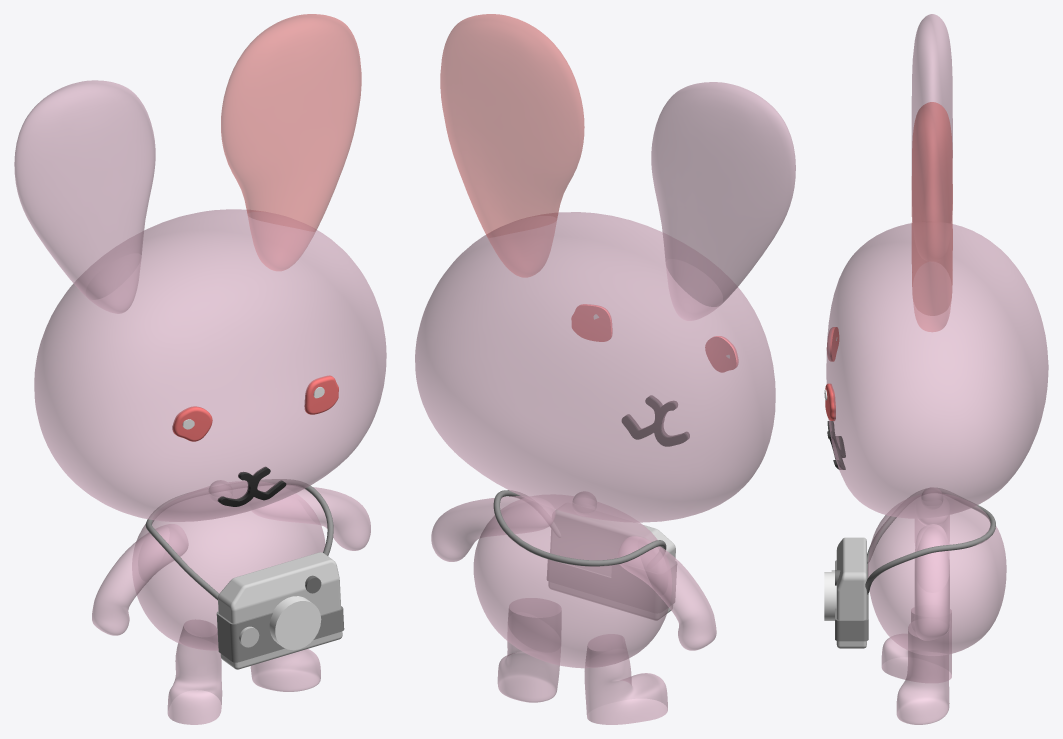
3 renders of one model, left to right at view 1: azimuth 30°, elevation 25°; view 2: azimuth 150°, elevation 25°; view 3: azimuth 270°, elevation 25°, orthographic. The views are drawn at different scales.
Parts seen in each view (by area): view 1: 018_SugoUsagi; view 2: 018_SugoUsagi; view 3: 018_SugoUsagi.
Boxes of the visible parts, box(x1,y1,x2,y2) form: 018_SugoUsagi: box(14, 14, 386, 724); 018_SugoUsagi: box(415, 14, 795, 724); 018_SugoUsagi: box(824, 14, 1048, 724).
Bounding box in the file's own units: 0.1086 × 0.1909 × 0.0634.
